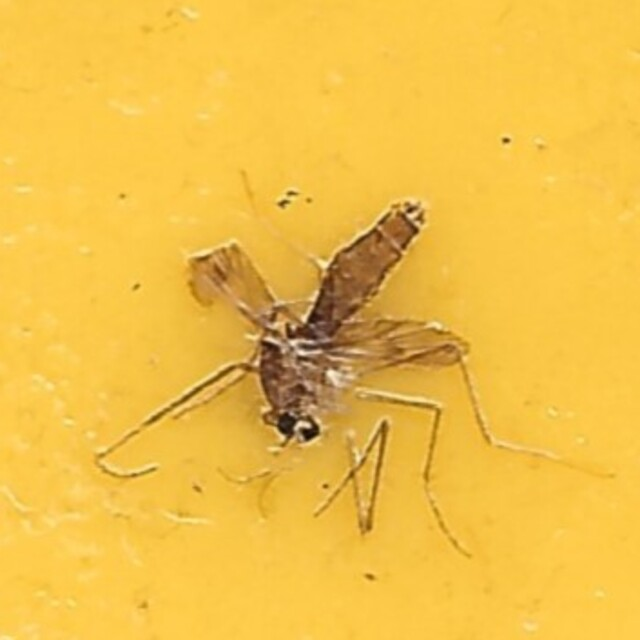Nematocera: (181, 187, 459, 453)
